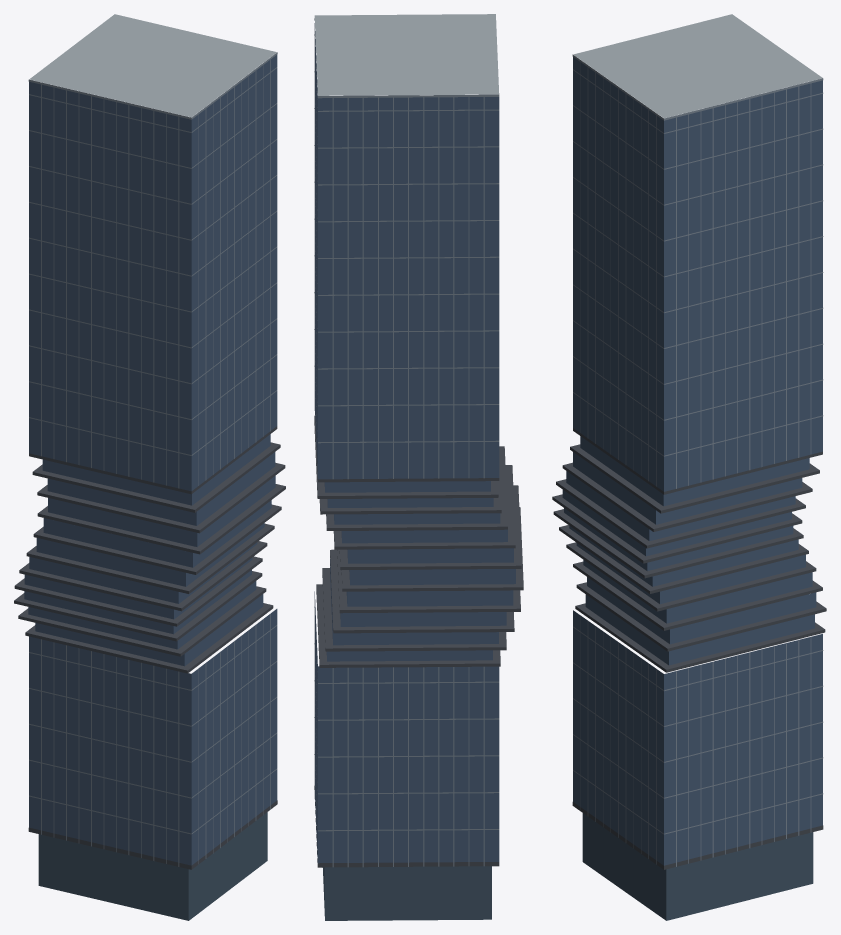
The model's file is frankfurt-omniturm.glb.
The picture shows the model from 3 angles, left to right: view 1: azimuth 30°, elevation 25°; view 2: azimuth 150°, elevation 25°; view 3: azimuth 270°, elevation 25°; orthographic projection. The views are drawn at different scales.
Visible parts, largest first — view 1: Omniturm; view 2: Omniturm; view 3: Omniturm.
Boxes of the visible parts, <box> form: Omniturm: <box>14,14,285,920</box>; Omniturm: <box>314,14,523,920</box>; Omniturm: <box>552,14,826,920</box>.
Bounding box in the file's own units: 57.85 × 190 × 58.5.
